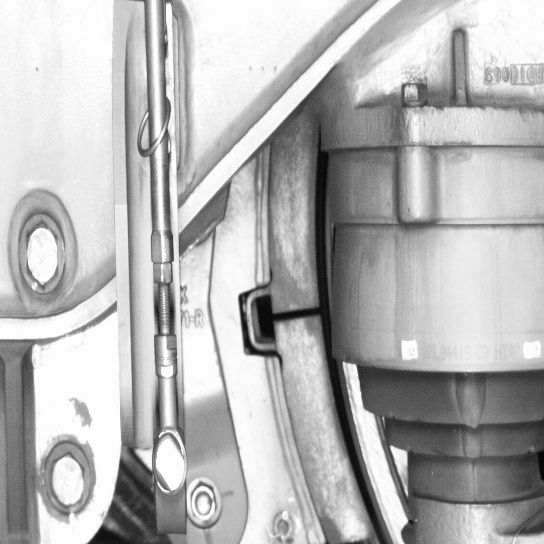KnifeSwitch: (268, 146, 401, 540)
